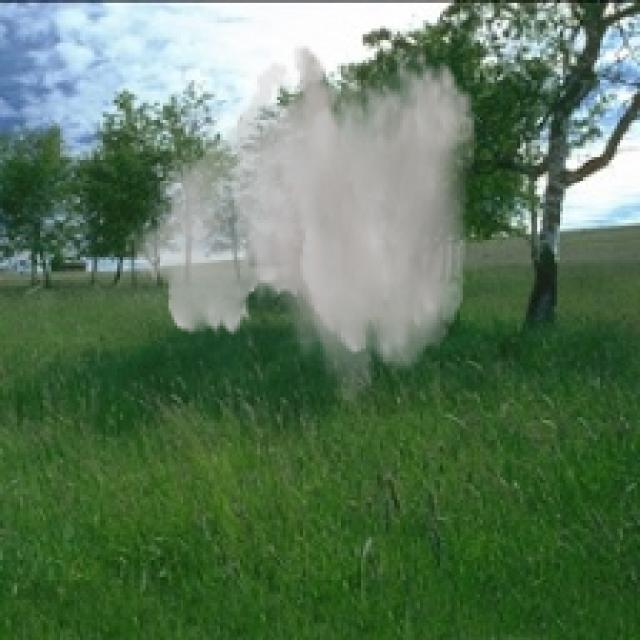Smoke: (122, 42, 478, 414)
